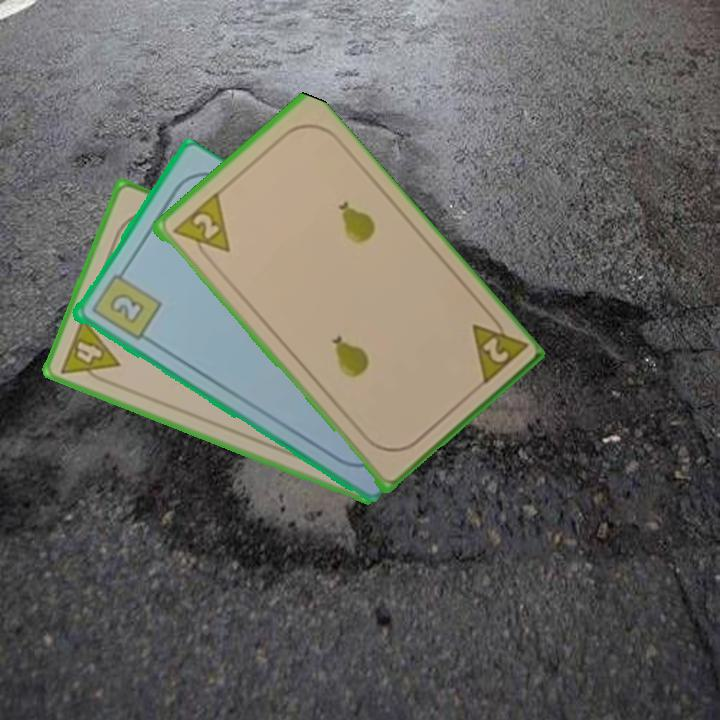2b: (87, 264, 163, 343)
2p: (168, 190, 233, 267), (467, 308, 528, 390)
4p: (56, 314, 123, 389)
